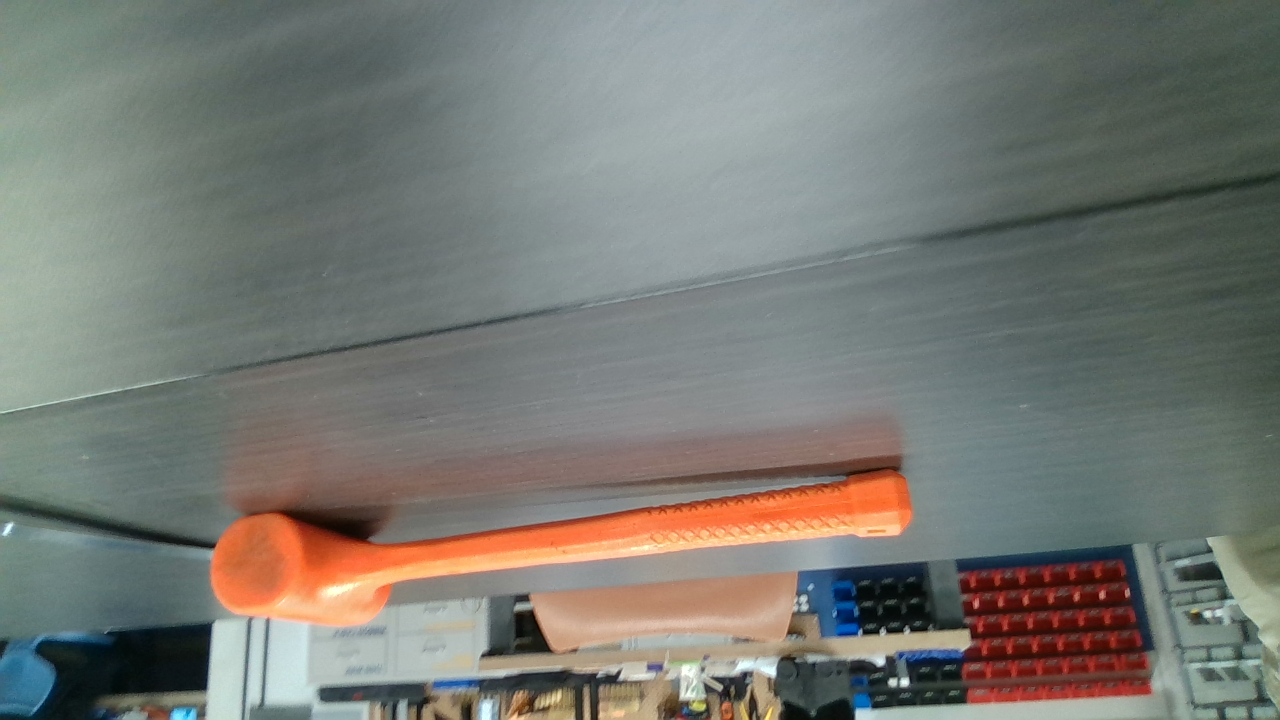Orange Hammer: (215, 464, 910, 625)
